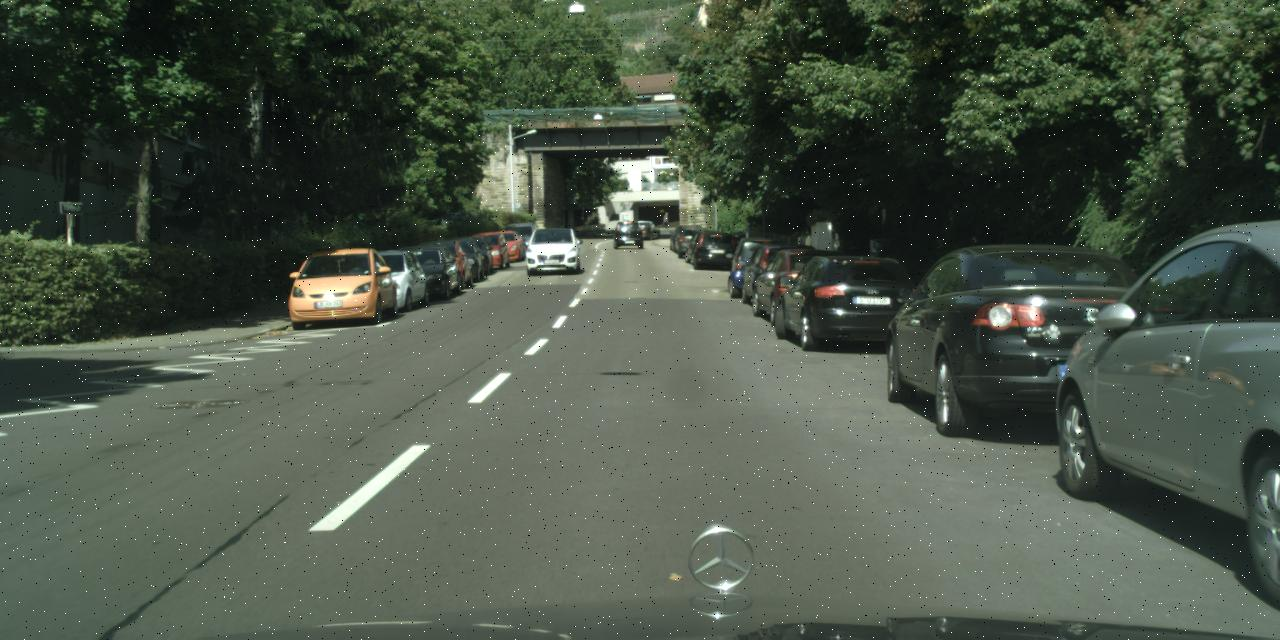ped: (662, 212, 668, 228)
